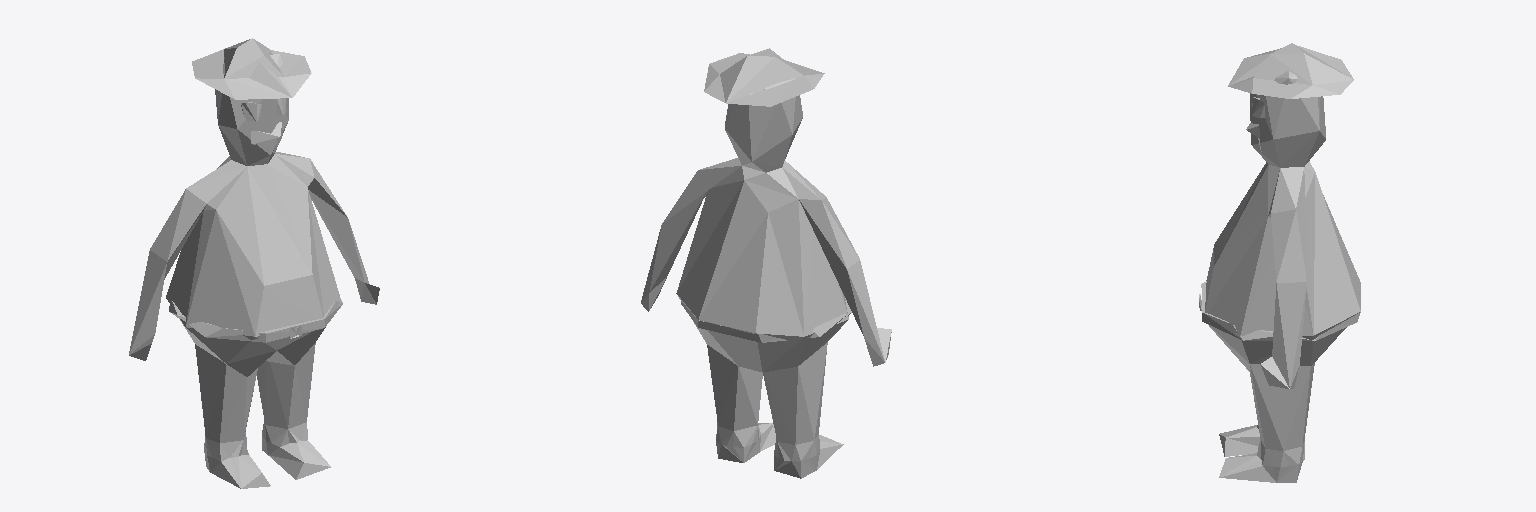
File: SadH.obj
3 views of the same model, side by side, from view 1: azimuth 30°, elevation 25°; view 2: azimuth 150°, elevation 25°; view 3: azimuth 270°, elevation 25° (orthographic).
Visible parts, largest first — view 1: Heikki_mesh_backup_Cube.002; view 2: Heikki_mesh_backup_Cube.002; view 3: Heikki_mesh_backup_Cube.002.
Boxes of the visible parts, x1=… form: Heikki_mesh_backup_Cube.002: x1=129, y1=38, x2=379, y2=488; Heikki_mesh_backup_Cube.002: x1=641, y1=48, x2=891, y2=478; Heikki_mesh_backup_Cube.002: x1=1199, y1=43, x2=1360, y2=482.
Size of the model in its own units: 1.04 by 1.68 by 0.5962.